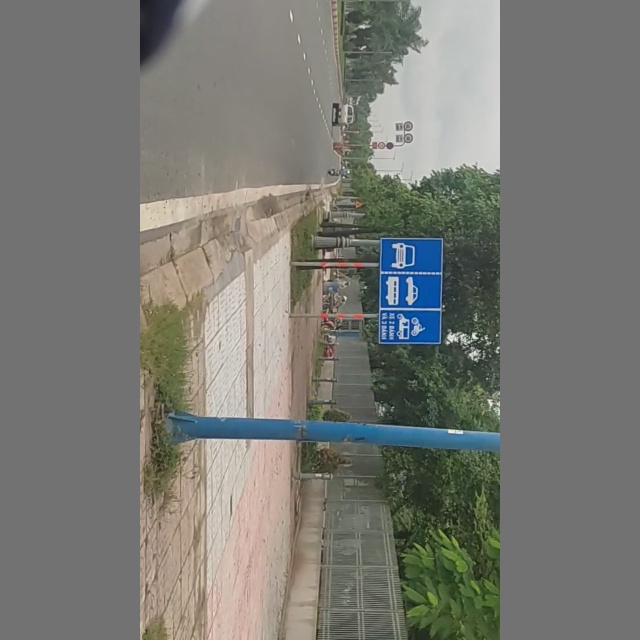R.415a: (376, 233, 441, 349)
